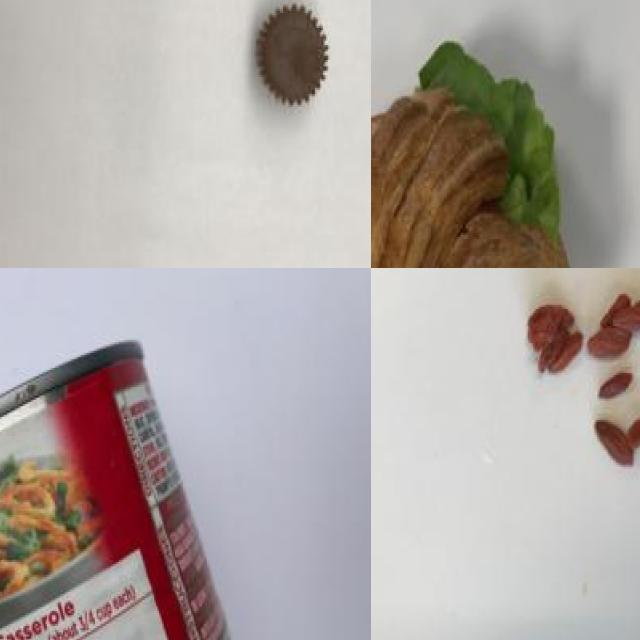compost: (371, 11, 599, 268), (506, 268, 640, 507), (243, 0, 349, 140)
plastic: (0, 356, 279, 640)
